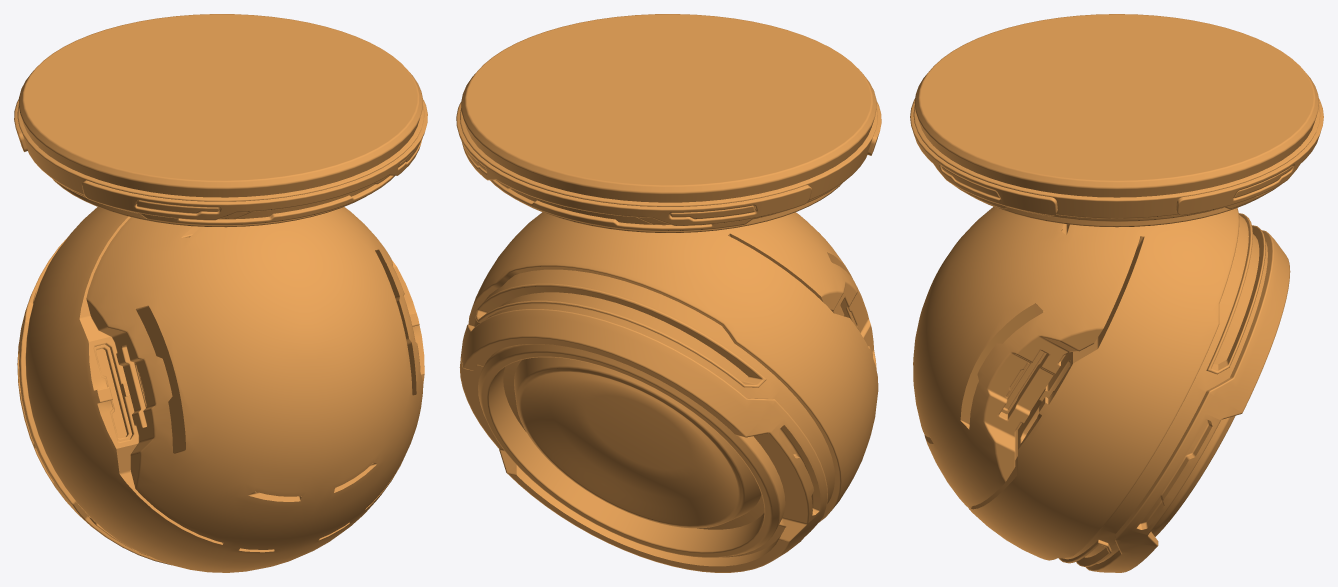
Rendered from shader_ball.fbx.
3 views of the same model, side by side, from view 1: azimuth 30°, elevation 25°; view 2: azimuth 150°, elevation 25°; view 3: azimuth 270°, elevation 25° (orthographic). The views are drawn at different scales.
Visible parts, largest first — view 1: Shader Ball JL 01; view 2: Shader Ball JL 01; view 3: Shader Ball JL 01.
Boxes of the visible parts, x1,y1,x2,y2 form: Shader Ball JL 01: [14, 14, 427, 572]; Shader Ball JL 01: [456, 14, 881, 572]; Shader Ball JL 01: [910, 14, 1323, 572].
Size of what is drawn, in the model's own units: 60 by 74.03 by 60.87.
